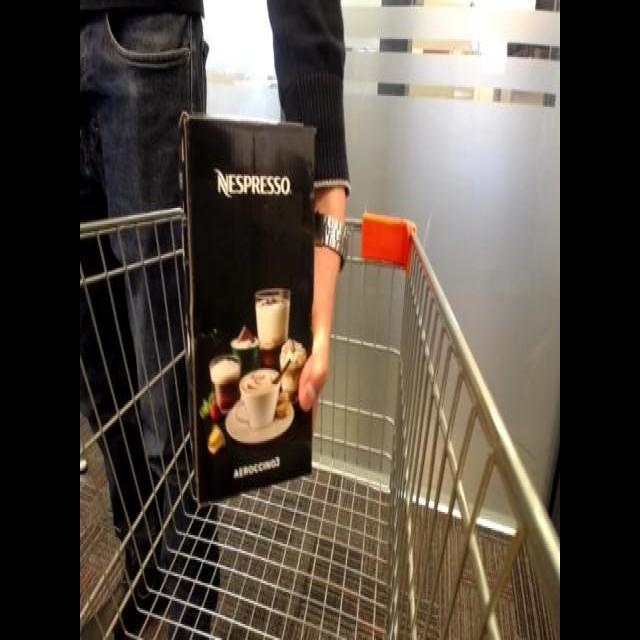Nespresso: (171, 110, 334, 510)
